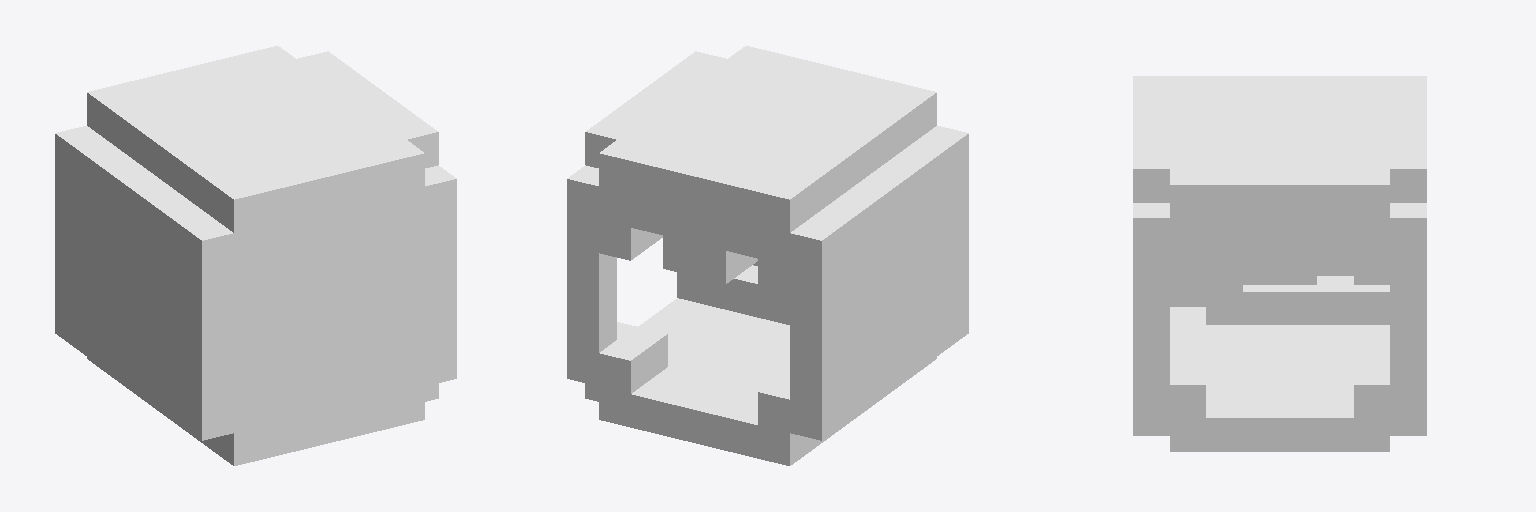
File: Corridor_TURN_LEFT.obj
3 views of the same model, side by side, from view 1: azimuth 30°, elevation 25°; view 2: azimuth 150°, elevation 25°; view 3: azimuth 270°, elevation 25° (orthographic).
Visible parts, largest first — view 1: object 1; view 2: object 1; view 3: object 1.
Boxes of the visible parts, box(x1,y1,x2,y2) form: object 1: box(55, 46, 456, 465); object 1: box(567, 46, 968, 465); object 1: box(1133, 76, 1426, 451).
Size of the model in its own units: 0.8 by 0.8 by 0.8.